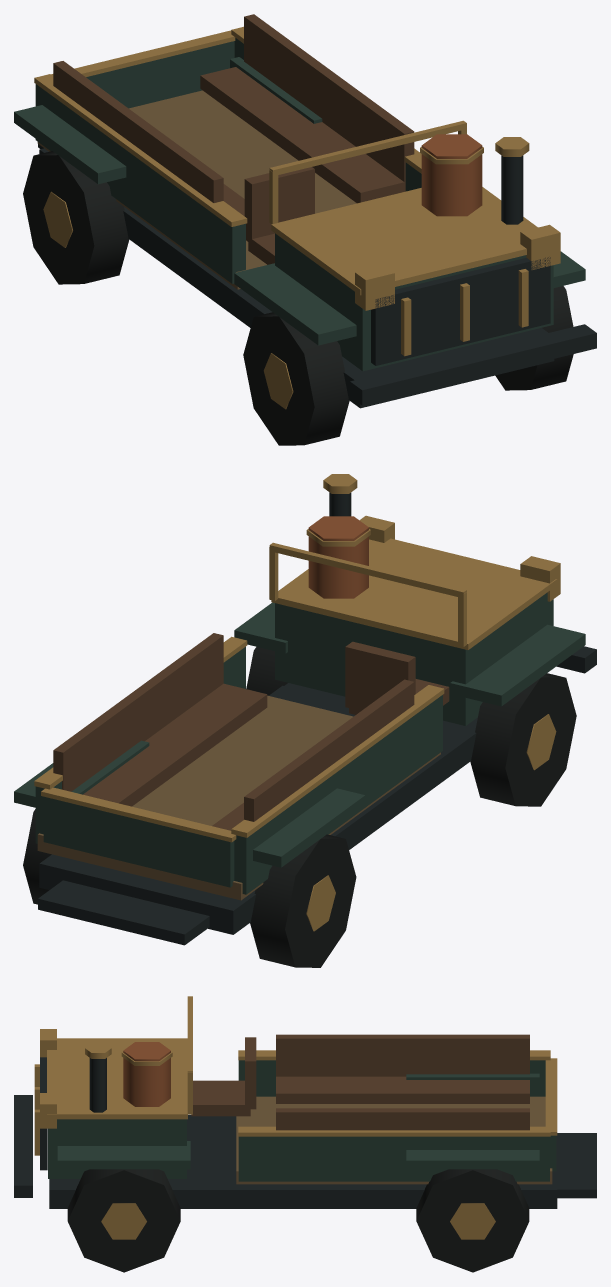
The model's file is steam-jeep.glb.
3 views of the same model, one above another, from view 1: azimuth 30°, elevation 25°; view 2: azimuth 150°, elevation 25°; view 3: azimuth 270°, elevation 25° (orthographic). The views are drawn at different scales.
Visible parts, largest first — view 1: Ironfront steam jeep, tailgate; view 2: Ironfront steam jeep, tailgate; view 3: Ironfront steam jeep, tailgate.
Boxes of the visible parts, x1,y1,x2,y2 form: Ironfront steam jeep: (14, 14, 596, 445); tailgate: (51, 30, 235, 108); Ironfront steam jeep: (14, 474, 596, 967); tailgate: (41, 787, 236, 887); Ironfront steam jeep: (14, 996, 596, 1272); tailgate: (545, 1058, 557, 1171).
Size of the model in its own units: 2.55 by 2.38 by 6.09.
